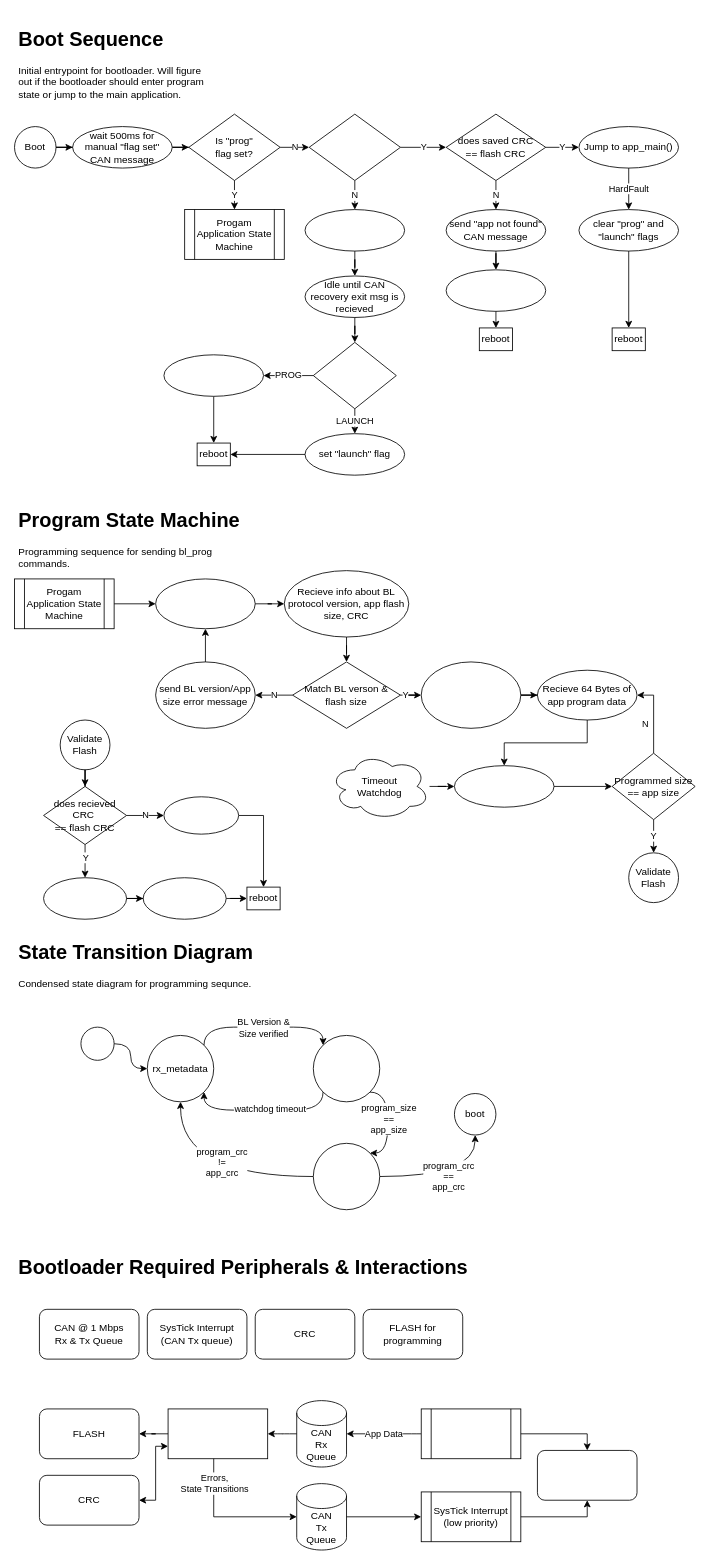
The diagram is 710 pixels wide and 1565 high, and some of its shapes have lost their labels. Each missing label, with the box of its shape:
Bootloader FSM: (167, 1408, 268, 1459)
CAN: (537, 1450, 637, 1500)
CAN Rx Interrupt (high priority): (420, 1408, 521, 1459)
enter "rx_data" state: (420, 661, 521, 728)
Enter "rx_metadata" state: (155, 578, 255, 629)
Is "launch" flag set?: (308, 113, 400, 181)
rx_data: (312, 1035, 380, 1102)
send CAN recovery message at 1Hz: (304, 209, 405, 251)
send CRC error: (163, 796, 239, 834)
set "launch" flag clear "boot" flag: (142, 877, 226, 919)
set "prog" flag: (163, 354, 264, 396)
set "prog" flag clear "launch" flag: (445, 269, 546, 311)
start: (80, 1026, 114, 1060)
Store CRC and app length: (43, 877, 127, 919)
Unlock and program 64 bytes of data: (454, 765, 554, 807)
validate: (312, 1142, 380, 1210)
Was payload PROG or LAUNCH: (312, 342, 396, 409)
